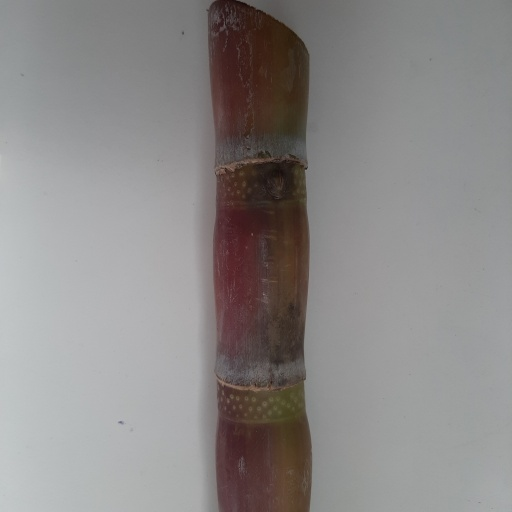Bud: (264, 167, 291, 201)
